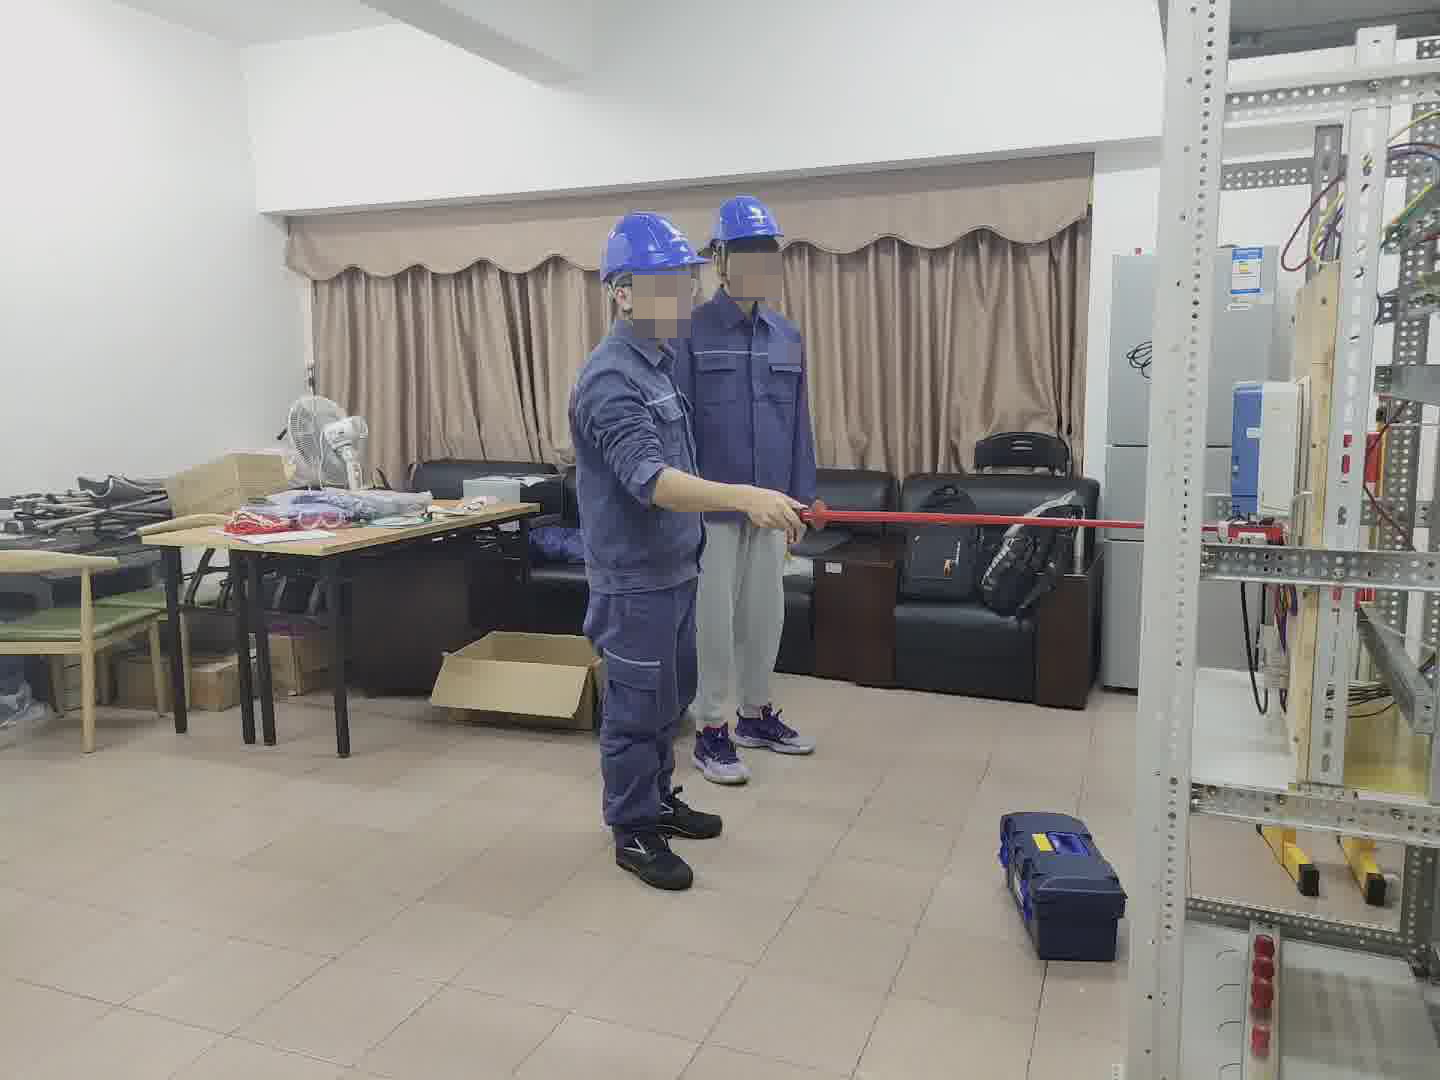downcloth: (696, 516, 793, 727)
downsuit: (583, 600, 706, 832)
halt: (595, 211, 705, 335), (710, 193, 790, 305)
hand: (747, 477, 808, 540)
inear: (604, 266, 642, 318), (705, 244, 735, 285)
person: (557, 205, 730, 897), (666, 193, 824, 792)
testrod: (798, 503, 1282, 567)
upsuit: (675, 282, 824, 533), (566, 323, 704, 590)
wrongtop: (636, 454, 809, 543)
